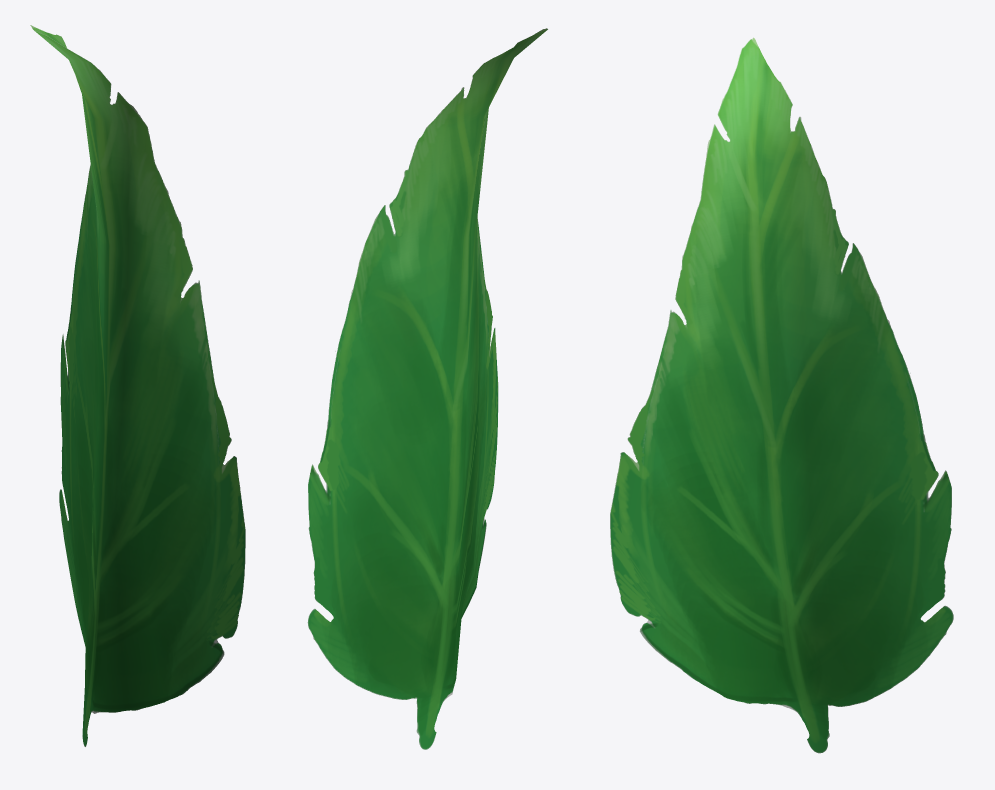
Rendered from bigleaf_2.fbx.
3 views of the same model, side by side, from view 1: azimuth 30°, elevation 25°; view 2: azimuth 150°, elevation 25°; view 3: azimuth 270°, elevation 25° (orthographic). The views are drawn at different scales.
Visible parts, largest first — view 1: big_leaf2; view 2: big_leaf2; view 3: big_leaf2.
Boxes of the visible parts, x1,y1,x2,y2 form: big_leaf2: (30,25,245,746); big_leaf2: (307,28,547,749); big_leaf2: (610,37,953,753).
Size of the model in its own units: 1.74 by 8.02 by 3.93.
